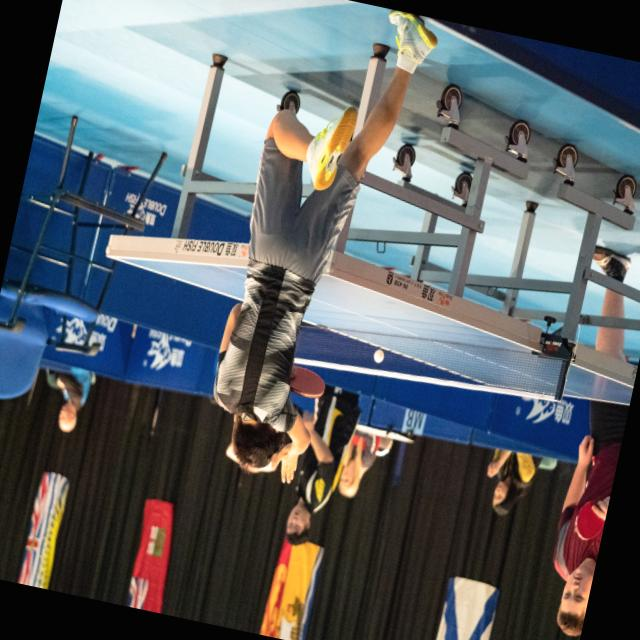TT Net: (294, 306, 575, 405)
TT Racket: (274, 358, 330, 404), (568, 489, 610, 546)
TT Table: (90, 0, 640, 420)
